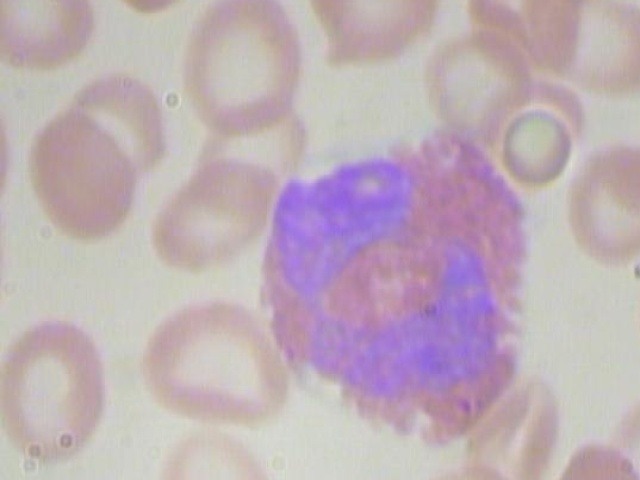RBC: (132, 292, 304, 427), (165, 0, 309, 145), (0, 314, 116, 475), (21, 105, 146, 244), (147, 154, 285, 275), (519, 0, 640, 101), (66, 65, 169, 180), (304, 0, 446, 75), (561, 134, 640, 267), (0, 0, 105, 83), (500, 107, 575, 194), (0, 61, 20, 219), (97, 0, 205, 16)
WBC: (234, 127, 542, 454)
